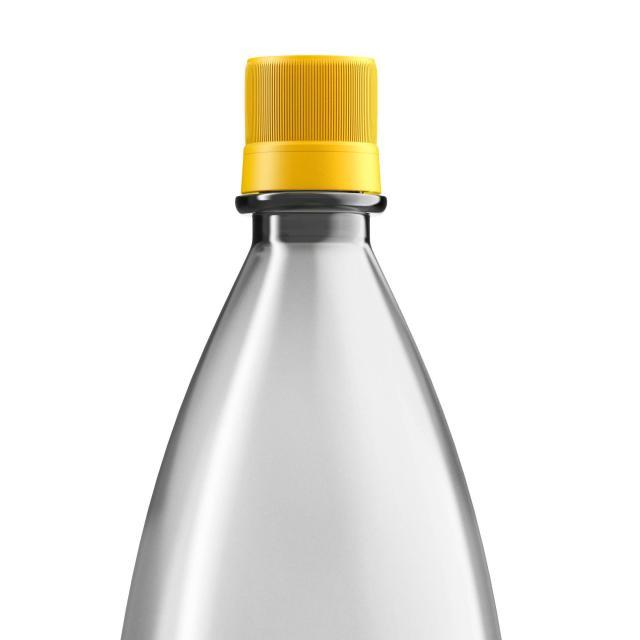cap: (221, 40, 397, 260)
